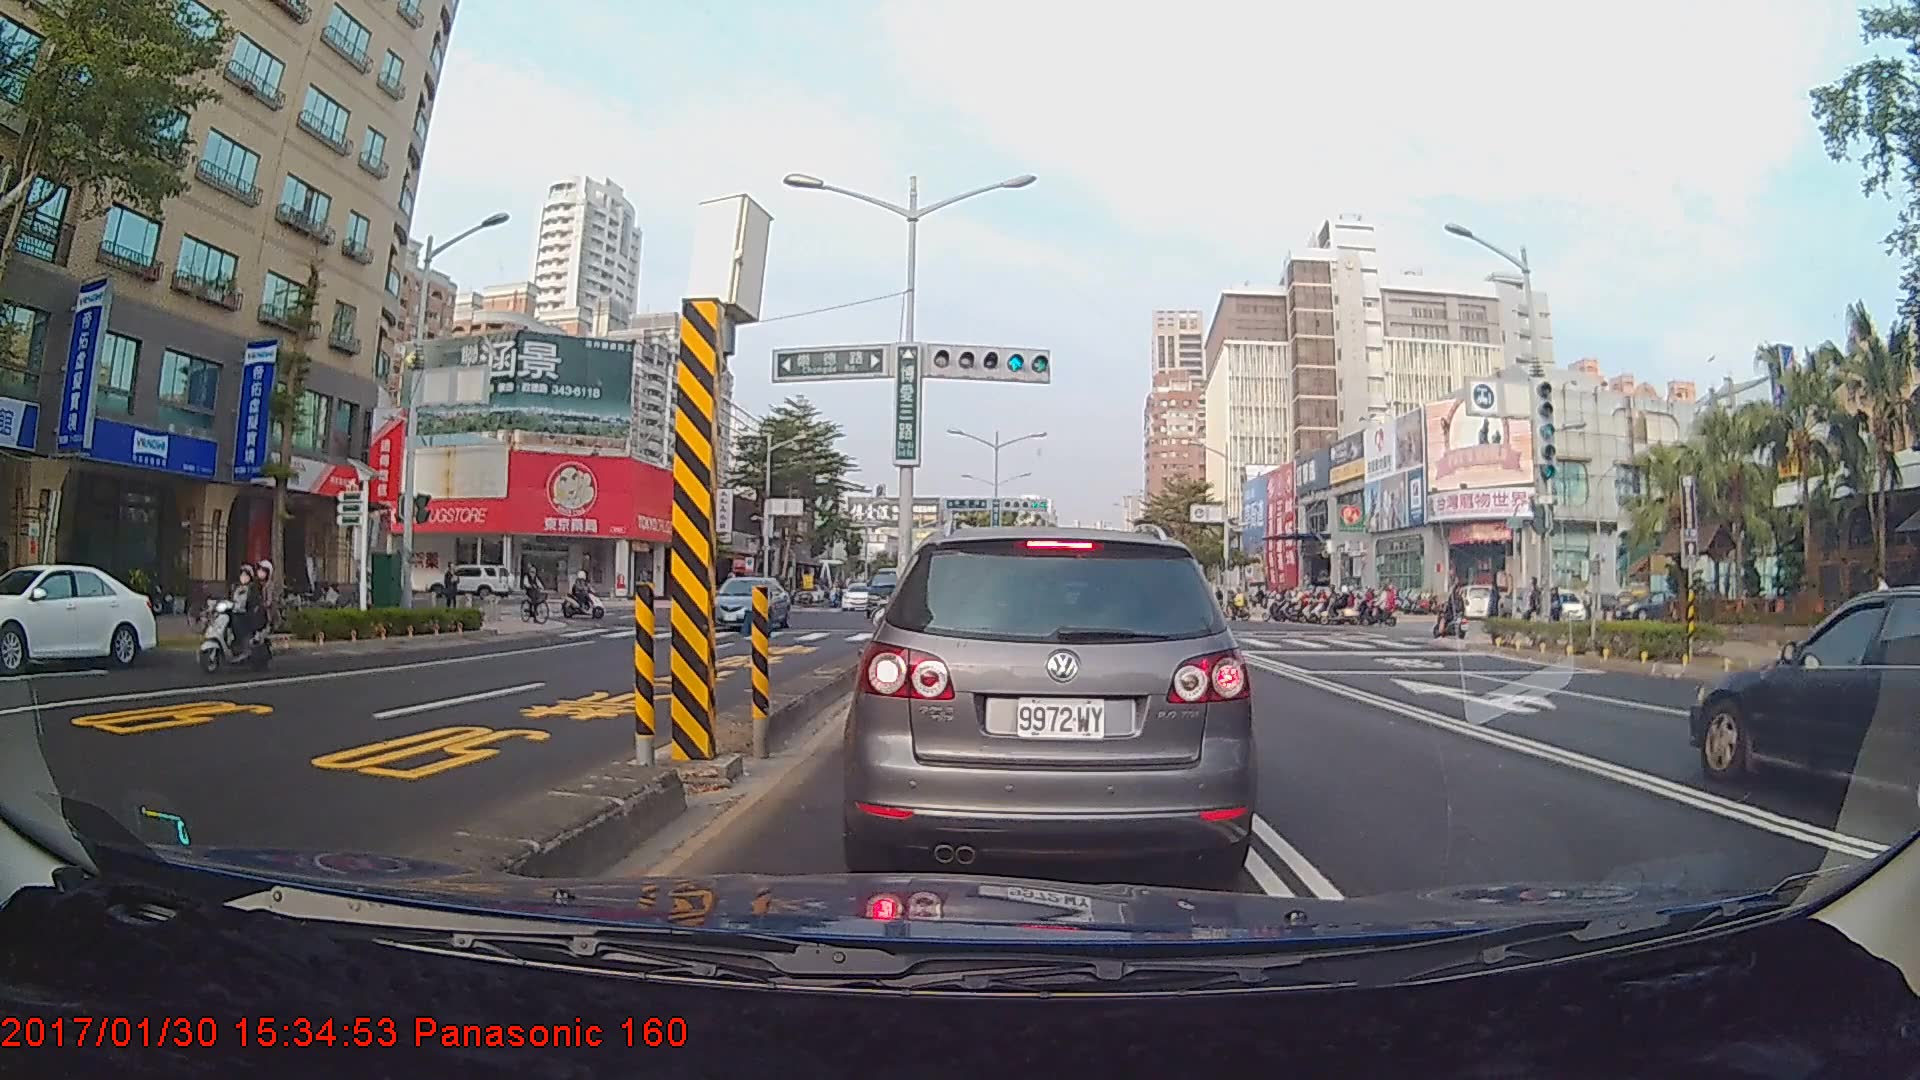pedestrian: (441, 558, 466, 621), (1484, 579, 1509, 637)
rider: (184, 558, 268, 682), (562, 568, 613, 625), (518, 559, 553, 629), (1436, 582, 1473, 646)
vehicle: (853, 523, 1245, 885), (1686, 584, 1920, 820), (0, 561, 157, 671), (702, 574, 790, 632), (864, 565, 918, 619), (840, 581, 882, 610)
